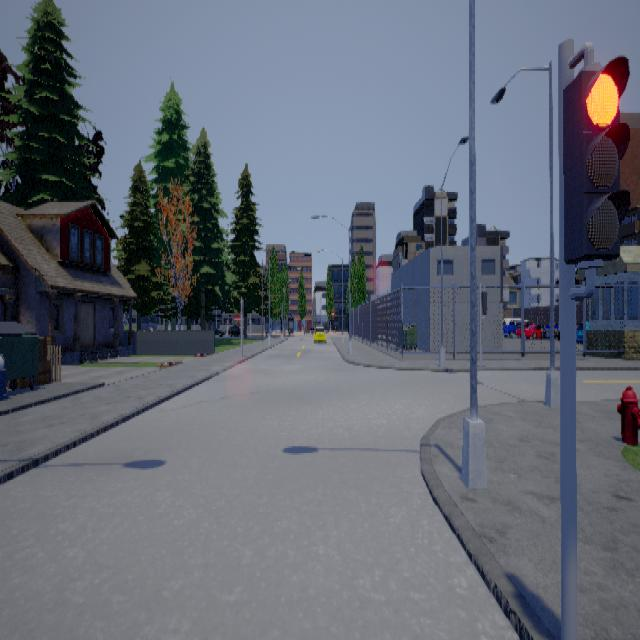red_light: (562, 41, 630, 298)
